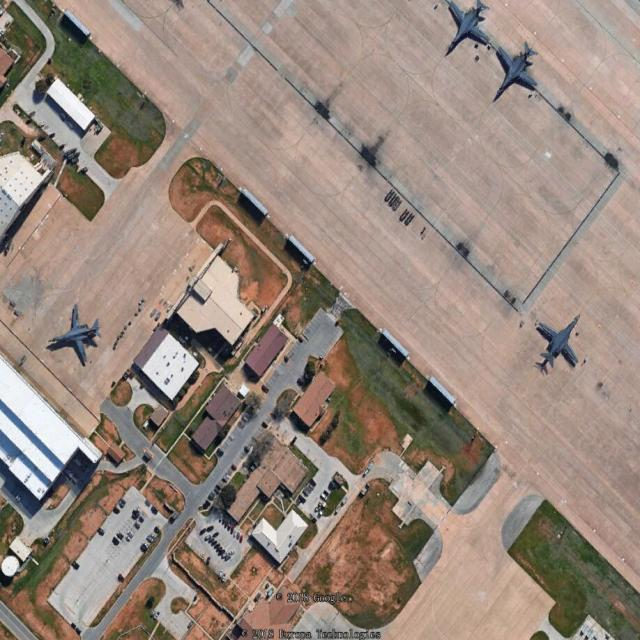fighter jet: (50, 303, 104, 371), (440, 0, 500, 46), (491, 52, 544, 102), (535, 318, 582, 373)
